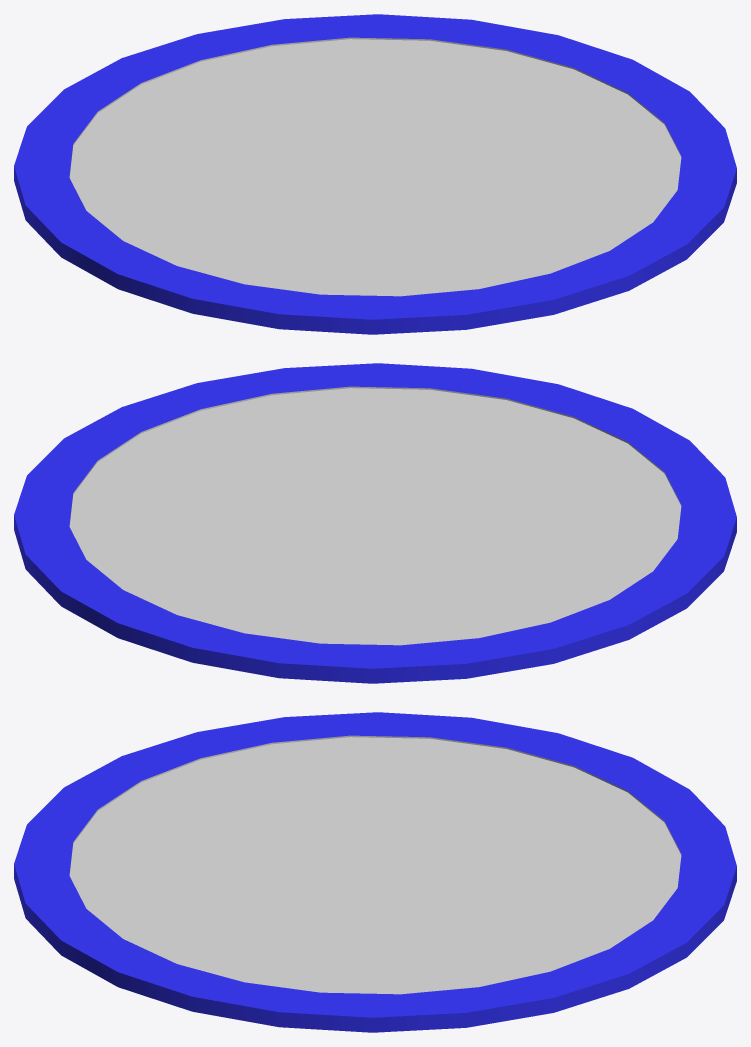
File: Plate.fbx
3 views of the same model, one above another, from view 1: azimuth 30°, elevation 25°; view 2: azimuth 150°, elevation 25°; view 3: azimuth 270°, elevation 25° (orthographic).
Parts seen in each view (by area): view 1: Model; view 2: Model; view 3: Model.
Boxes of the visible parts, bbox=[...] form: Model: bbox=[14, 14, 736, 334]; Model: bbox=[14, 363, 736, 683]; Model: bbox=[14, 712, 736, 1032].
Size of the model in its own units: 389 by 8.94 by 389.
